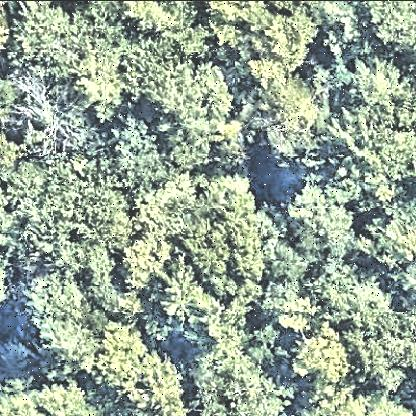tree-top: (12, 161, 135, 277), (317, 257, 416, 385), (181, 325, 295, 416), (342, 63, 416, 191), (184, 190, 270, 298), (95, 323, 189, 416), (242, 60, 318, 156), (281, 172, 360, 262), (16, 74, 90, 164), (156, 73, 214, 171), (3, 1, 81, 72), (356, 200, 416, 292), (150, 259, 213, 337), (285, 327, 359, 392), (78, 41, 131, 120), (38, 312, 99, 380), (1, 377, 105, 416), (114, 121, 166, 198), (297, 388, 416, 416), (361, 3, 413, 56), (125, 1, 200, 36), (316, 1, 366, 51)
